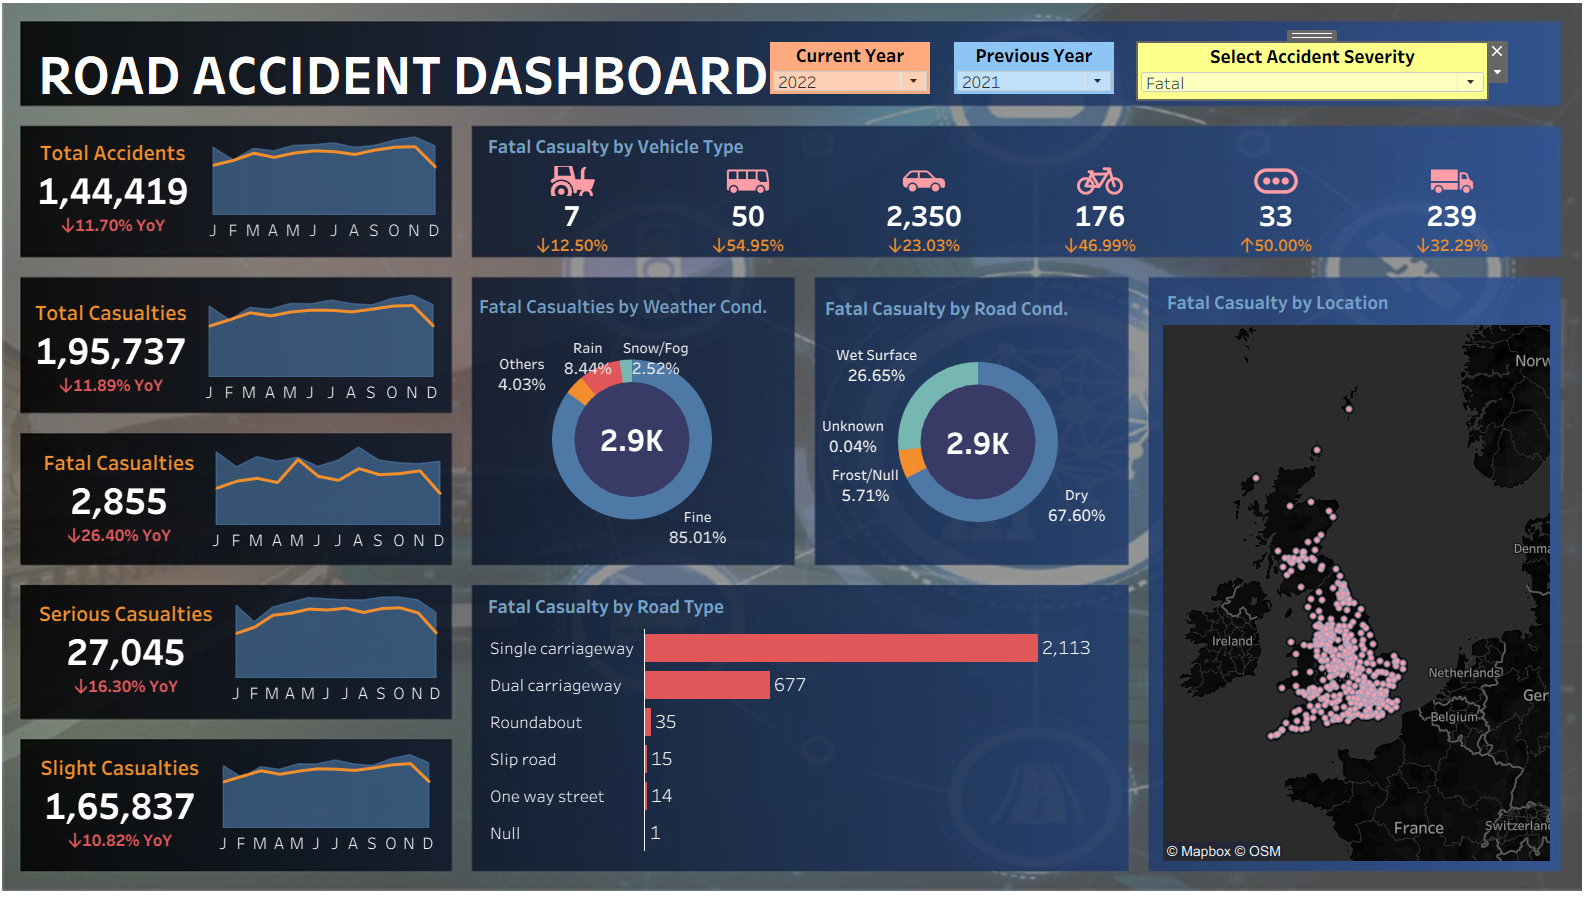

The page's visual inventory and layout, read from the dashboard file:
{"tool":"tableau","page":{"name":"Dashboard 1","canvas":[1000,1000],"units":"permille","ordinal":0},"visuals":[{"type":"image","param":"Image/Background.jpg","box":[5,8.6,990,982.7]},{"type":"text","box":[27.2,57.2,494.3,77.8]},{"type":"parameter","param":"[Parameters].[Parameter 0280965394235394]","box":[486.2,62.6,99.8,56.2]},{"type":"parameter","param":"[Parameters].[Current Year (copy)_0280965395177475]","box":[601,62.6,99.8,56.2]},{"type":"parameter","param":"[Parameters].[Parameter 0567938290401281]","box":[715.8,63.7,217.6,60.5]},{"type":"worksheet","title":"Total Accidents","mark":"Automatic","box":[23.1,156.6,107.2,126.4]},{"type":"worksheet","title":"Accident Sparkline","mark":"Automatic","rows":["CY Accidents (copy)_0280965400219655","Calculation_0280965398462470"],"cols":["Accident Date"],"box":[130.3,156.6,155.8,126.4]},{"type":"text","box":[305.7,157.7,663.3,34.6]},{"type":"worksheet","title":"Vehicle Type Images","mark":"Shape","box":[305.7,192.2,663.3,36.7]},{"type":"worksheet","title":"Casualty by Vehicle Type KPI","mark":"Automatic","box":[305.7,229,663.3,68]},{"type":"worksheet","title":"Casualties by Location","mark":"Automatic","rows":["Latitude"],"cols":["Longitude"],"box":[731.5,325.1,241.1,622]},{"type":"worksheet","title":"Total Casualties","mark":"Automatic","box":[22.4,327.2,105.4,130.7]},{"type":"worksheet","title":"Total Casualty Sparkline","mark":"Automatic","rows":["CY Casualties (copy)_0280965444804618","Calculation_0280965443506185"],"cols":["Accident Date"],"box":[127.8,327.2,157.1,130.7]},{"type":"worksheet","title":"Weather Conditions","mark":"Pie","rows":["Calculation_1068216115617793","Calculation_1068216115617793"],"box":[302.5,329.4,195.6,281.9]},{"type":"worksheet","title":"Road Conditions","mark":"Pie","rows":["Calculation_1068216115617793","Calculation_1068216115617793"],"box":[518.4,331.5,195.6,282.9]},{"type":"worksheet","title":"Fatal Casualties","mark":"Automatic","box":[28.1,491.4,104.1,126.4]},{"type":"worksheet","title":"Fatal Casualty Sparkline","mark":"Automatic","rows":["CY Fatal Casualties (copy)_0280965472915469","Calculation_0280965471055884"],"cols":["Accident Date"],"box":[132.2,491.4,157.1,126.4]},{"type":"worksheet","title":"Serious Casualties","mark":"Automatic","box":[23.7,653.4,121.6,129.6]},{"type":"worksheet","title":"Serious Casualty Sparkline ","mark":"Automatic","rows":["PY Fatal Casualties (copy)_0280965474508816","CY Fatal Casualties (copy)_0280965474258959"],"cols":["Accident Date"],"box":[145.3,653.4,140.9,129.6]},{"type":"worksheet","title":"Casualties by Road Type","mark":"Automatic","rows":["Road_Type"],"cols":["Calculation_0280965443506185"],"box":[308.2,653.4,393.7,282.9]},{"type":"worksheet","title":"Slight Casualties","mark":"Automatic","box":[24.3,824,112.9,119.9]},{"type":"worksheet","title":"Slight Casualty Sparkline","mark":"Automatic","rows":["PY Serious Casualties  (copy)_0280965475819539","CY Serious Casualties  (copy)_0280965475590162"],"cols":["Accident Date"],"box":[137.2,824,144.6,119.9]}]}

Visuals, with their boxes on the dashboard's canvas, which has no fixed pixel size, in thousandths of its width and height (x1, y1, x2, y2). These are canvas units, not pixel positions in the 1584x897 screenshot, which may show the page scaled, cropped or inside an application window:
image: (left=5, top=9, right=995, bottom=991)
text: (left=27, top=57, right=522, bottom=135)
parameter: (left=486, top=63, right=586, bottom=119)
parameter: (left=601, top=63, right=701, bottom=119)
parameter: (left=716, top=64, right=933, bottom=124)
"Total Accidents" worksheet: (left=23, top=157, right=130, bottom=283)
"Accident Sparkline" worksheet: (left=130, top=157, right=286, bottom=283)
text: (left=306, top=158, right=969, bottom=192)
"Vehicle Type Images" worksheet (Shape marks): (left=306, top=192, right=969, bottom=229)
"Casualty by Vehicle Type KPI" worksheet: (left=306, top=229, right=969, bottom=297)
"Casualties by Location" worksheet: (left=732, top=325, right=973, bottom=947)
"Total Casualties" worksheet: (left=22, top=327, right=128, bottom=458)
"Total Casualty Sparkline" worksheet: (left=128, top=327, right=285, bottom=458)
"Weather Conditions" worksheet (Pie marks): (left=302, top=329, right=498, bottom=611)
"Road Conditions" worksheet (Pie marks): (left=518, top=332, right=714, bottom=614)
"Fatal Casualties" worksheet: (left=28, top=491, right=132, bottom=618)
"Fatal Casualty Sparkline" worksheet: (left=132, top=491, right=289, bottom=618)
"Serious Casualties" worksheet: (left=24, top=653, right=145, bottom=783)
"Serious Casualty Sparkline " worksheet: (left=145, top=653, right=286, bottom=783)
"Casualties by Road Type" worksheet: (left=308, top=653, right=702, bottom=936)
"Slight Casualties" worksheet: (left=24, top=824, right=137, bottom=944)
"Slight Casualty Sparkline" worksheet: (left=137, top=824, right=282, bottom=944)
